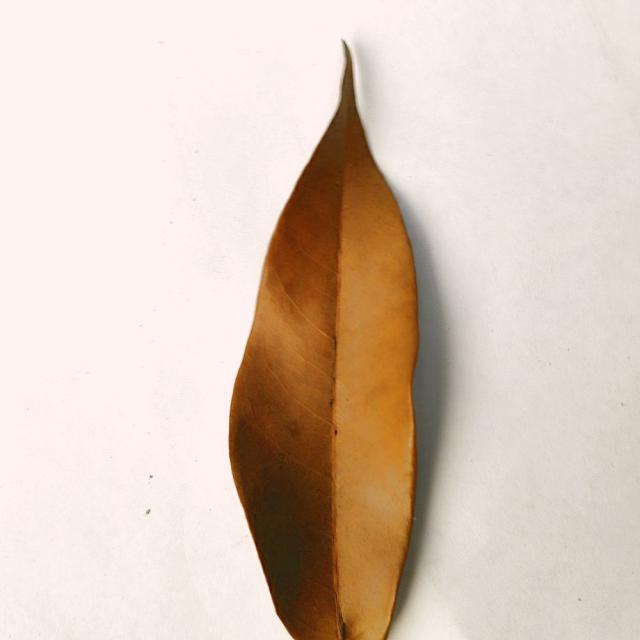Dry_Leaf-Lychee: (228, 46, 420, 639)
